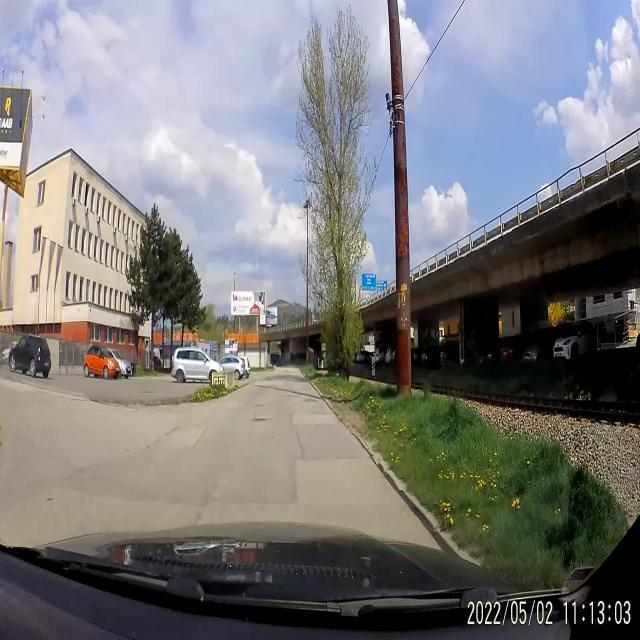Pothole: (250, 406, 272, 425)
